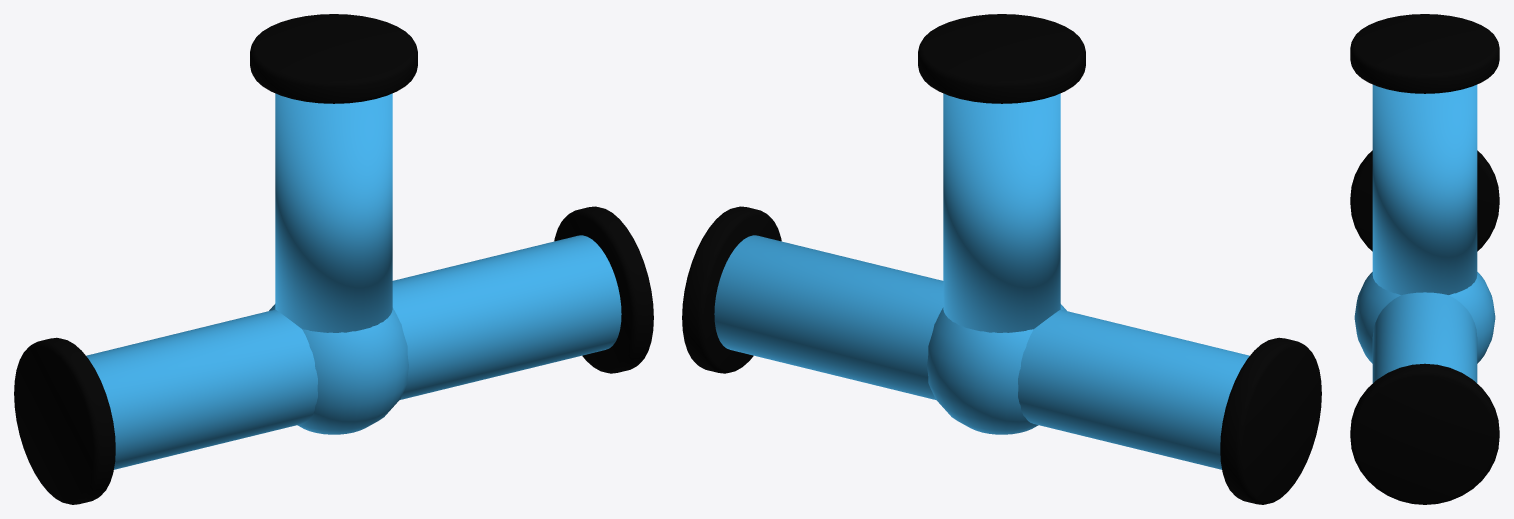
File: pipe-tee.glb
The picture shows the model from 3 angles, left to right: view 1: azimuth 30°, elevation 25°; view 2: azimuth 150°, elevation 25°; view 3: azimuth 270°, elevation 25°; orthographic projection. The views are drawn at different scales.
Parts seen in each view (by area): view 1: tee main pipe body, tee branch pipe body, tee left flange, tee branch flange, tee rounded junction body, tee right flange; view 2: tee main pipe body, tee branch pipe body, tee left flange, tee branch flange, tee rounded junction body, tee right flange; view 3: tee branch pipe body, tee right flange, tee branch flange, tee main pipe body, tee rounded junction body, tee left flange.
Part boxes in pixels (x1=…): tee main pipe body: x1=86, y1=235, x2=621, y2=469; tee branch pipe body: x1=275, y1=93, x2=392, y2=332; tee left flange: x1=14, y1=337, x2=115, y2=504; tee branch flange: x1=250, y1=14, x2=417, y2=103; tee rounded junction body: x1=269, y1=304, x2=408, y2=434; tee right flange: x1=554, y1=206, x2=653, y2=373; tee main pipe body: x1=714, y1=235, x2=1249, y2=469; tee branch pipe body: x1=943, y1=93, x2=1060, y2=332; tee left flange: x1=1220, y1=337, x2=1321, y2=504; tee branch flange: x1=918, y1=14, x2=1085, y2=103; tee rounded junction body: x1=927, y1=304, x2=1066, y2=434; tee right flange: x1=682, y1=206, x2=781, y2=373; tee branch pipe body: x1=1372, y1=84, x2=1477, y2=294; tee right flange: x1=1350, y1=363, x2=1499, y2=504; tee branch flange: x1=1350, y1=14, x2=1499, y2=93; tee main pipe body: x1=1372, y1=292, x2=1477, y2=383; tee rounded junction body: x1=1354, y1=272, x2=1495, y2=363; tee left flange: x1=1350, y1=150, x2=1499, y2=251.
Bounding box in the file's own units: 1.54 × 1.01 × 0.4.
